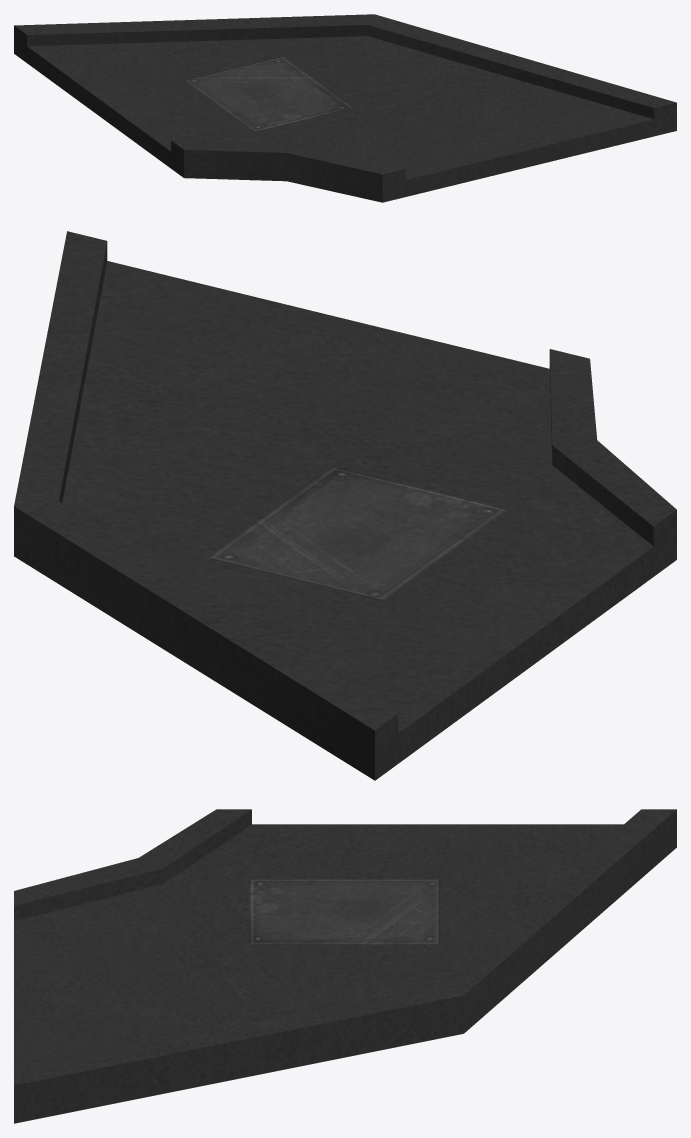
The model's file is Map_Access_Ramp_Horizontal_Angle.fbx.
The picture shows the model from 3 angles, top to bottom: view 1: azimuth 30°, elevation 25°; view 2: azimuth 150°, elevation 25°; view 3: azimuth 270°, elevation 25°; orthographic projection. The views are drawn at different scales.
Visible parts, largest first — view 1: Map_Access_Ramp_Horizontal_Angle; view 2: Map_Access_Ramp_Horizontal_Angle; view 3: Map_Access_Ramp_Horizontal_Angle.
Part boxes in pixels (x1,y1,x2,y2): Map_Access_Ramp_Horizontal_Angle: [14, 14, 676, 202]; Map_Access_Ramp_Horizontal_Angle: [14, 231, 676, 780]; Map_Access_Ramp_Horizontal_Angle: [14, 809, 676, 1123].
Bounding box in the file's own units: 342 × 22.09 × 347.
1 material, 1 textured.
